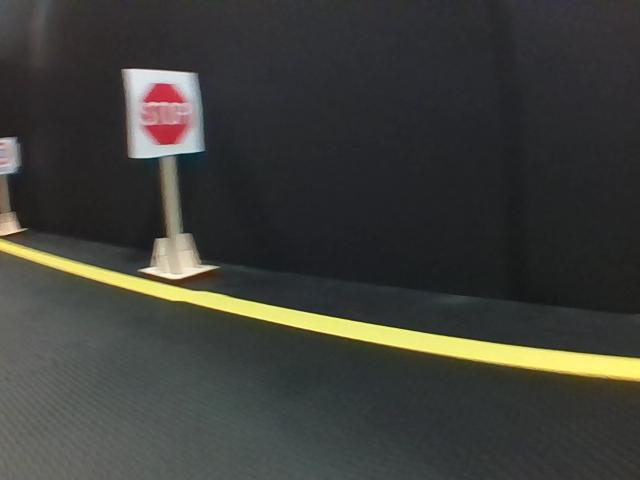30: (1, 139, 16, 172)
stop: (124, 70, 203, 153)
